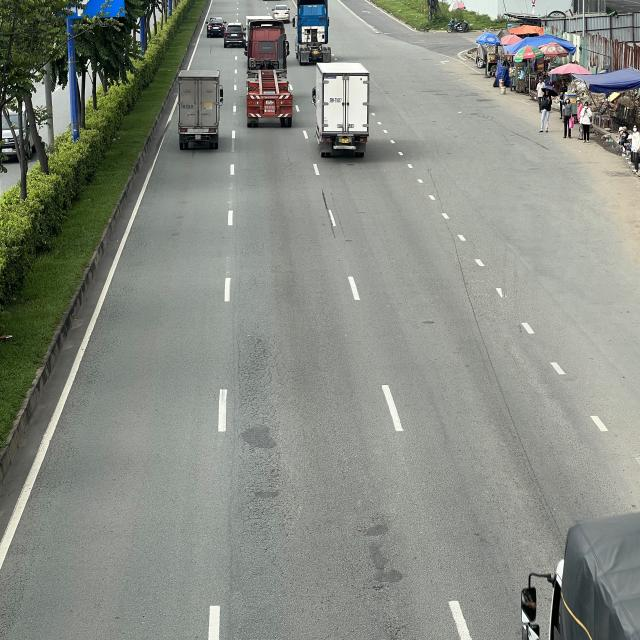car: (224, 22, 246, 47), (272, 5, 291, 24), (208, 16, 225, 36)
container: (244, 24, 293, 125), (293, 2, 332, 61)
truck: (310, 61, 372, 159), (177, 69, 224, 146)
